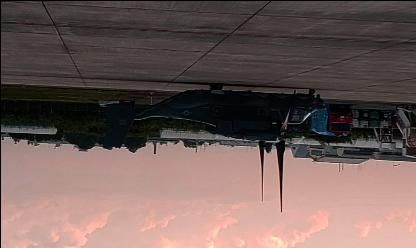Tornado: (97, 82, 326, 211)
